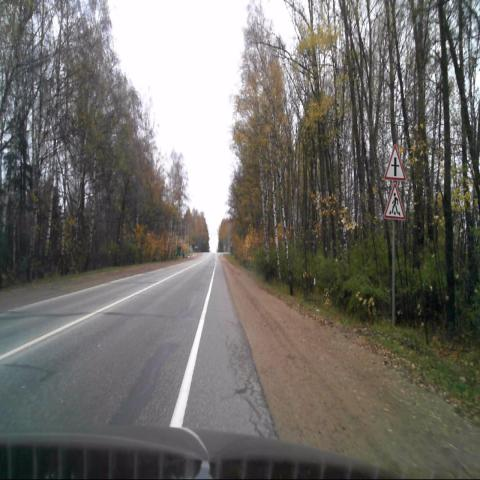2_3: (385, 144, 405, 182)
